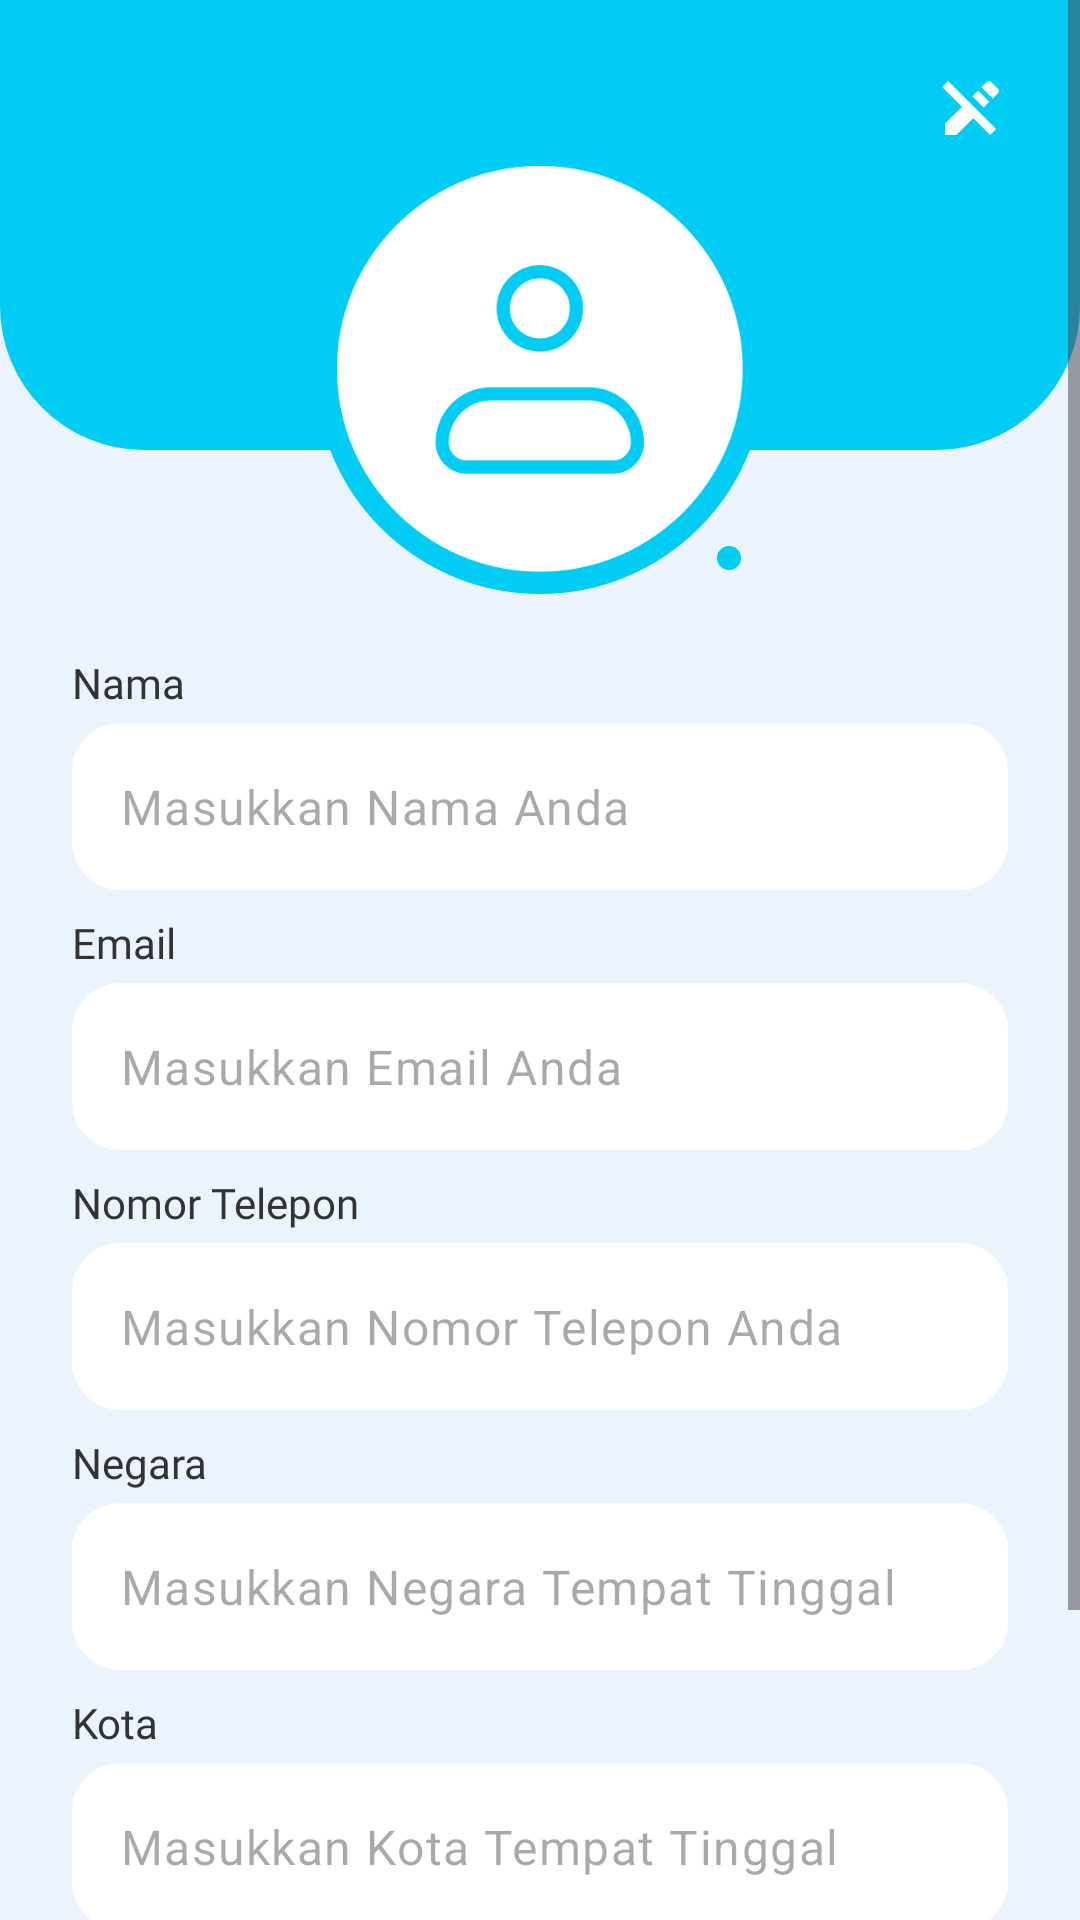

Named icons in this screenshot (1080×1920) and their bounding boxes, (x1, y1, x2, y2):
edit mode disable: (942, 81, 999, 135)
